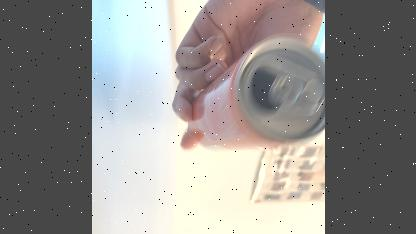Can: (175, 0, 324, 152)
